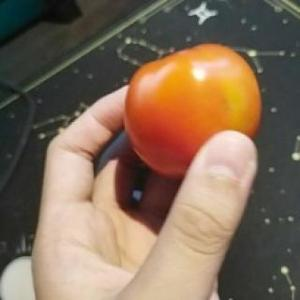tomato: (118, 36, 272, 183)
